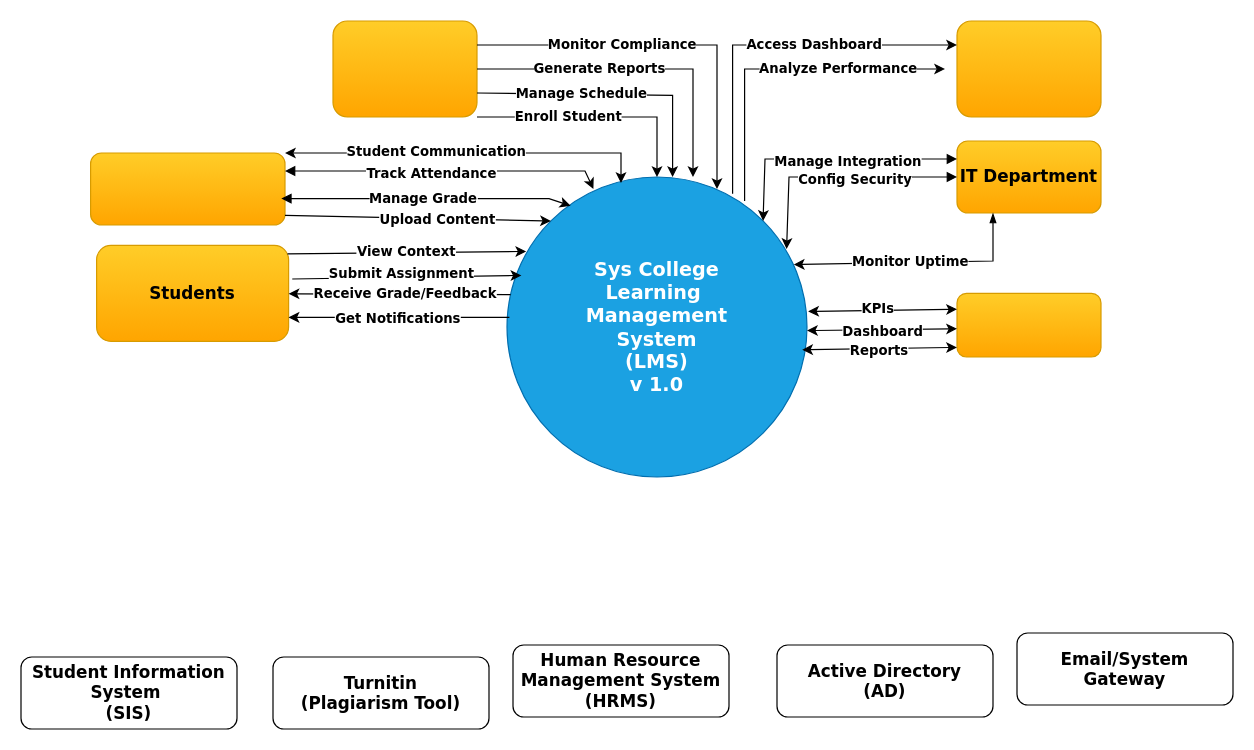
This 1254x750 diagram has some shape labels left out. The centre of each missing label's shape, as x and y in pixels:
Admin Staff: point 404,68
Department Heads: point 1028,68
Executives (Vps,Dean): point 1028,324
Faculty (Lecturers): point 187,188
